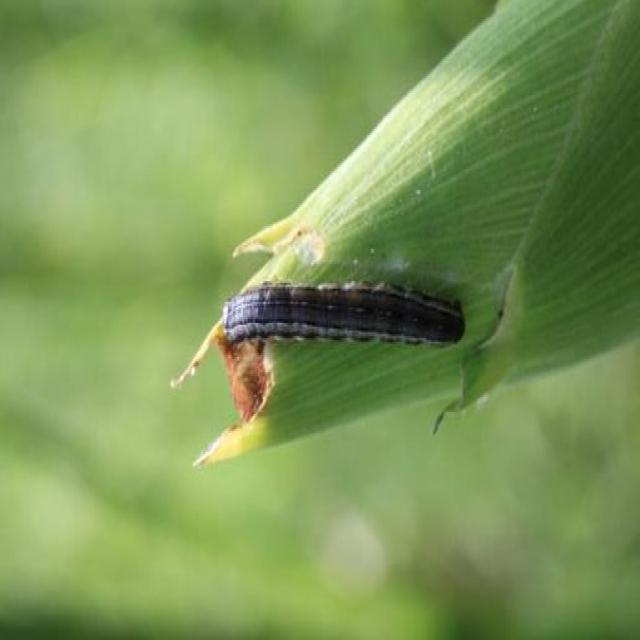army worm: (219, 288, 468, 352)
